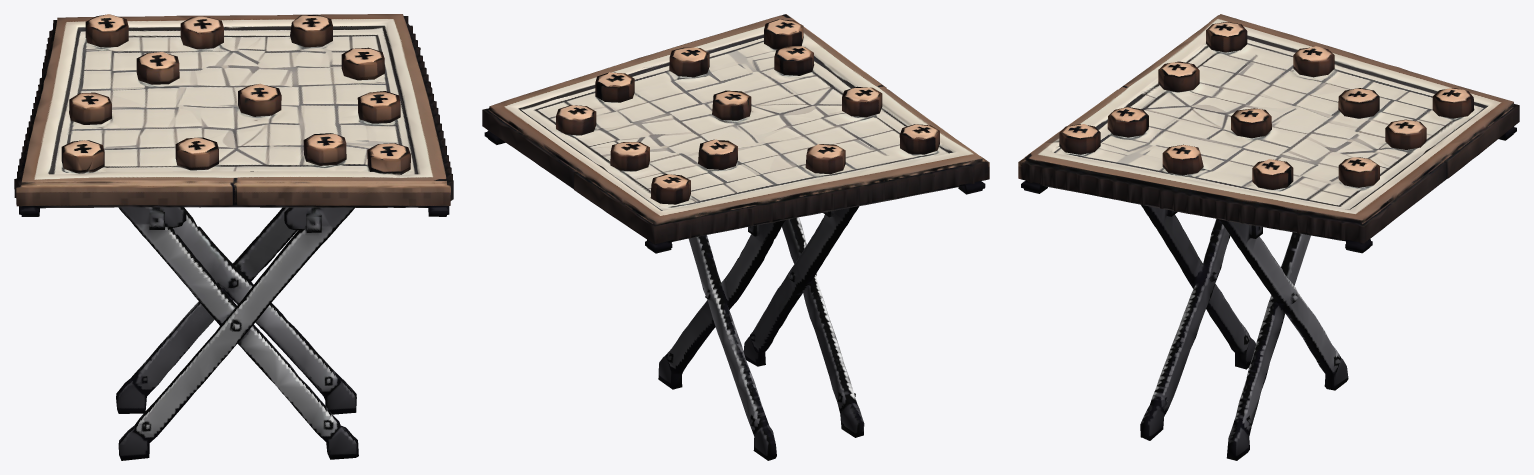
File: table.glb
The picture shows the model from 3 angles, left to right: view 1: azimuth 30°, elevation 25°; view 2: azimuth 150°, elevation 25°; view 3: azimuth 270°, elevation 25°; orthographic projection. The views are drawn at different scales.
Parts seen in each view (by area): view 1: tripo_node_6e40b2d9-a78d-4e65-9c4c-d0319cded97e; view 2: tripo_node_6e40b2d9-a78d-4e65-9c4c-d0319cded97e; view 3: tripo_node_6e40b2d9-a78d-4e65-9c4c-d0319cded97e.
Part boxes in pixels (box(x1,y1,x2,y2)): tripo_node_6e40b2d9-a78d-4e65-9c4c-d0319cded97e: box(14, 14, 453, 460); tripo_node_6e40b2d9-a78d-4e65-9c4c-d0319cded97e: box(482, 14, 989, 460); tripo_node_6e40b2d9-a78d-4e65-9c4c-d0319cded97e: box(1018, 14, 1519, 460).
Bounding box in the file's own units: 0.9785 × 0.6662 × 0.9775.
Materials: 1 (1 with a texture image).
